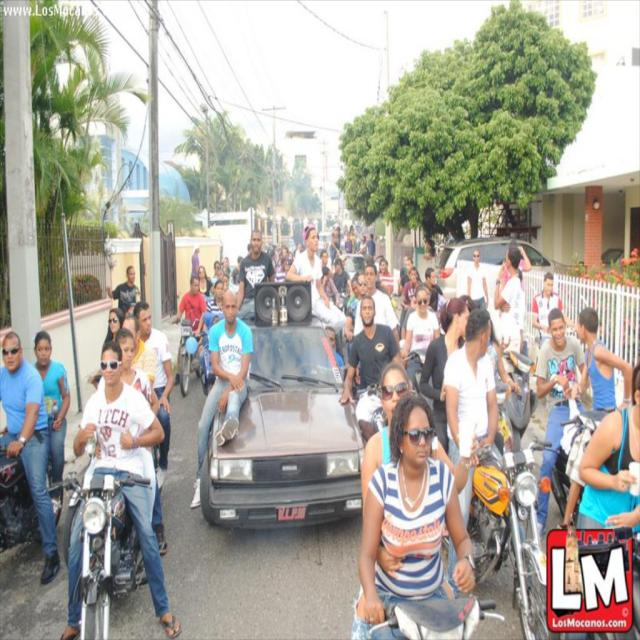Motorbikes: (54, 476, 150, 638)
Passenger Car: (200, 319, 364, 538)
